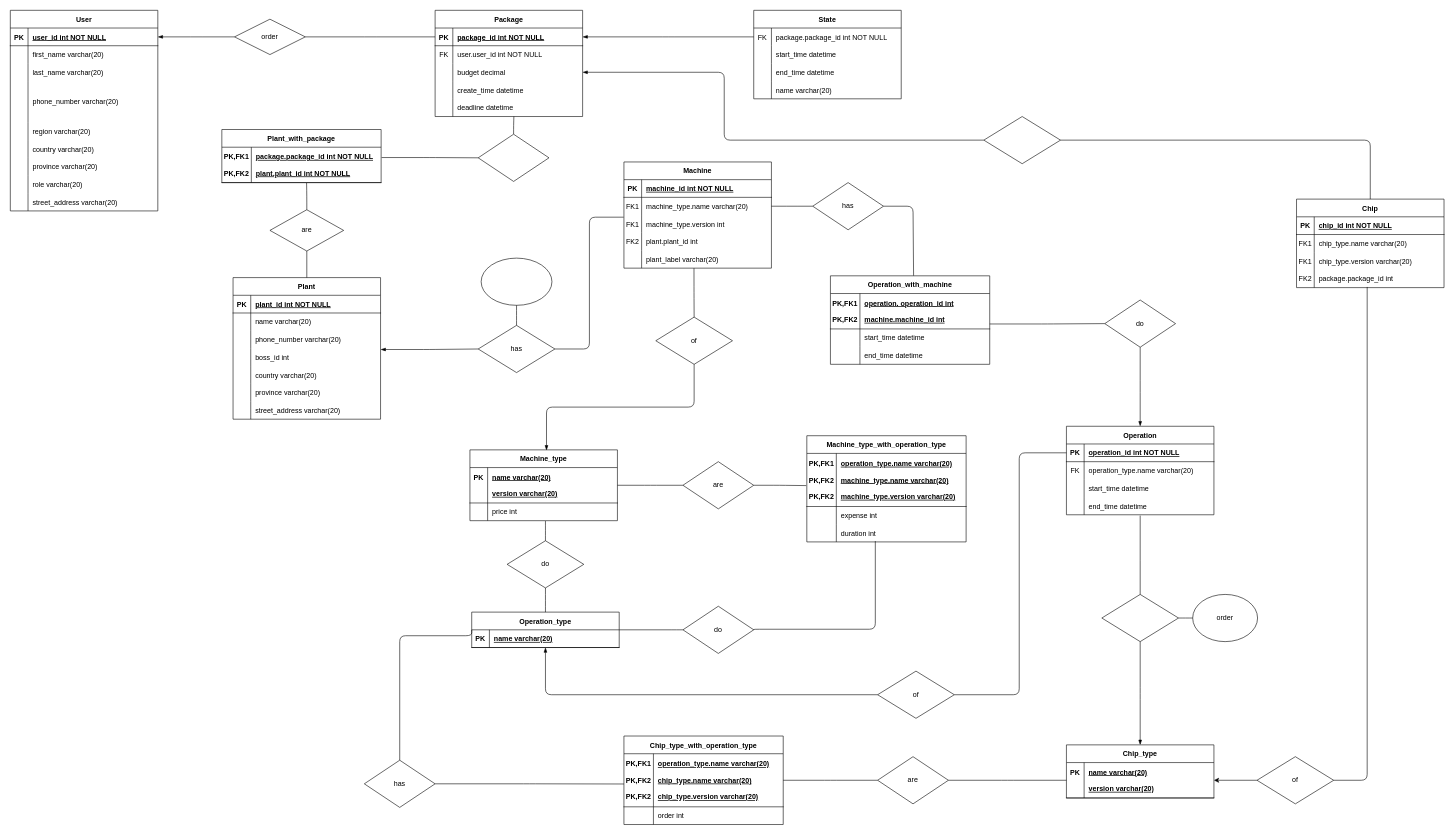
Some shapes in this 1454 by 835 pixel diagram are drawn without their labels. The centre of each missing label's shape, as x and y in pixels:
"consists of" belongs at [1022,140].
"label" belongs at [516,281].
"needs" belongs at [1140,618].
"produce" belongs at [513,157].
